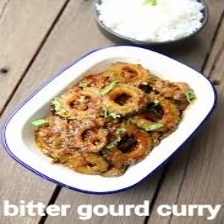sabzi: (24, 60, 201, 181)
